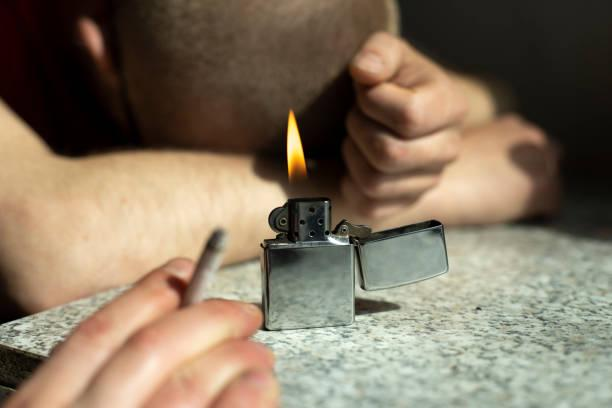Fire: (284, 108, 309, 196)
